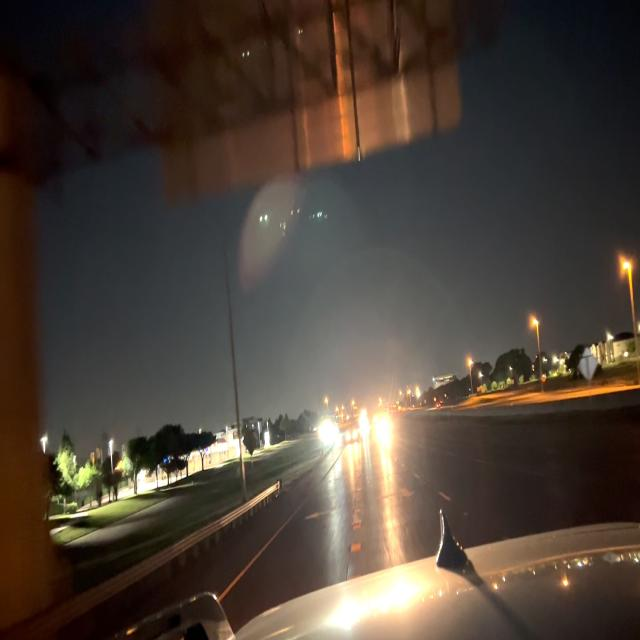back-of-sign: (143, 3, 464, 212)
